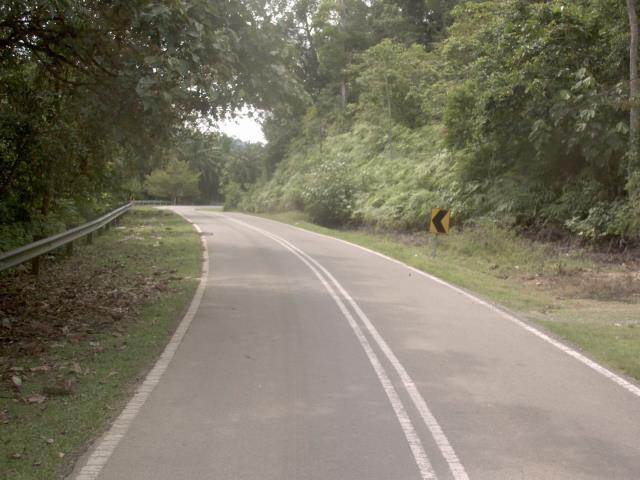traffic_sign: (423, 201, 455, 241)
